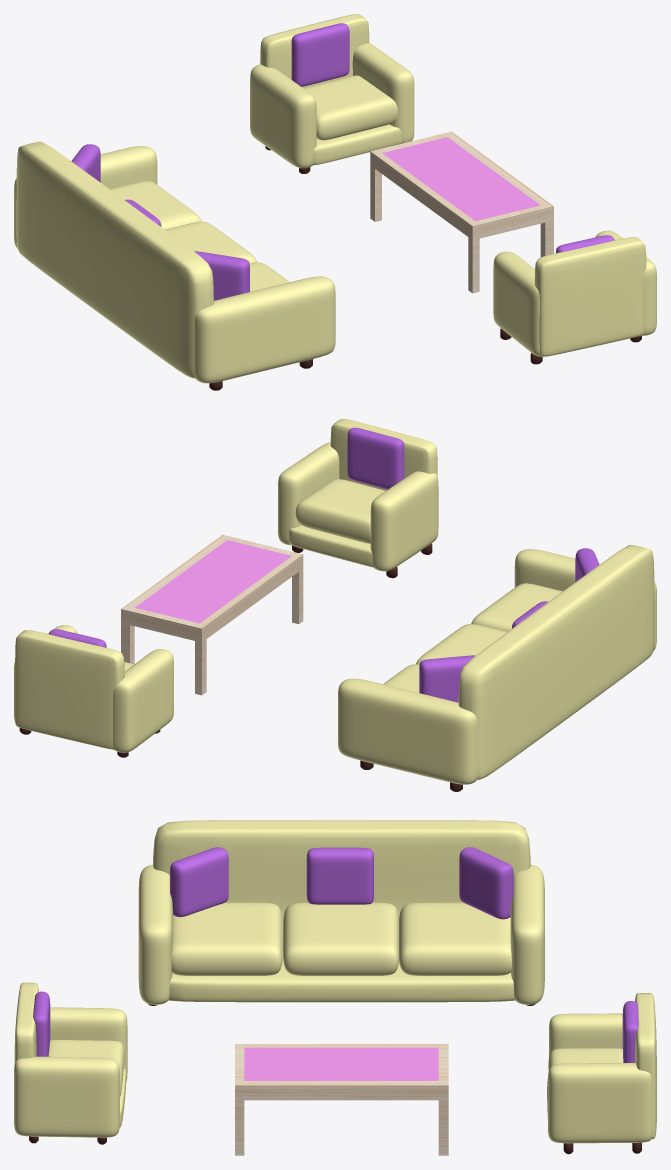
The model's file is armchairFBX.fbx.
3 views of the same model, one above another, from view 1: azimuth 30°, elevation 25°; view 2: azimuth 150°, elevation 25°; view 3: azimuth 270°, elevation 25° (orthographic). The views are drawn at different scales.
Parts seen in each view (by area): view 1: armchair, armchair1, armchair2, table; view 2: armchair, armchair2, armchair1, table; view 3: armchair, armchair2, armchair1, table.
Part boxes in pixels (bbox=[...]): armchair: bbox=[14, 141, 335, 390]; armchair1: bbox=[250, 14, 414, 173]; armchair2: bbox=[493, 230, 656, 364]; table: bbox=[370, 131, 553, 293]; armchair: bbox=[338, 545, 656, 791]; armchair2: bbox=[278, 419, 438, 578]; armchair1: bbox=[14, 625, 173, 757]; table: bbox=[121, 534, 303, 695]; armchair: bbox=[138, 820, 544, 1005]; armchair2: bbox=[14, 982, 127, 1144]; armchair1: bbox=[547, 993, 656, 1154]; table: bbox=[235, 1044, 448, 1155].
Bounding box in the file's own units: 1023 × 300 × 1310.
7 materials, 1 textured.
